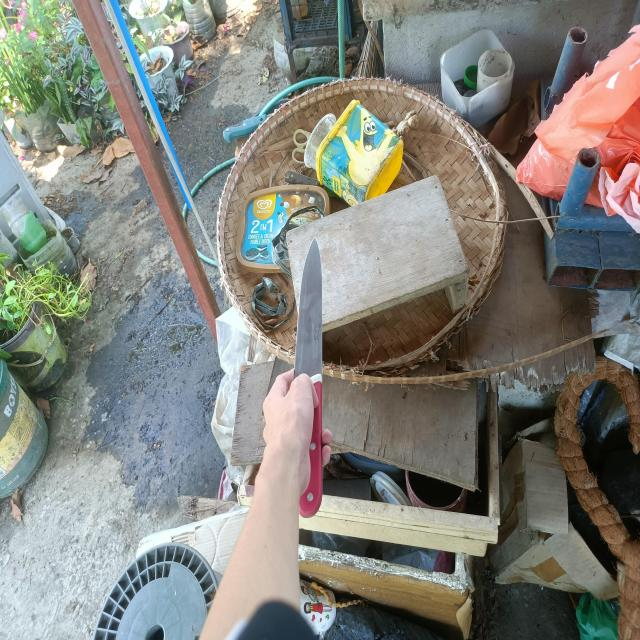knife: (294, 237, 323, 516)
